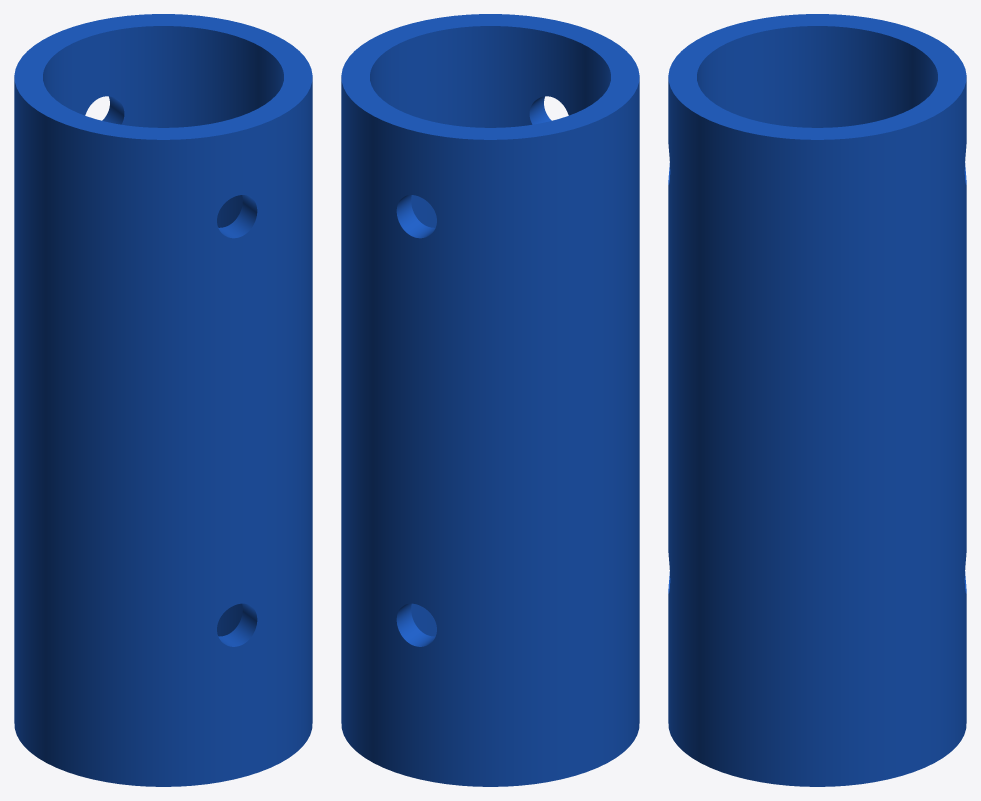
Rendered from 01_casquillo_cabeza.glb.
The picture shows the model from 3 angles, left to right: view 1: azimuth 30°, elevation 25°; view 2: azimuth 150°, elevation 25°; view 3: azimuth 270°, elevation 25°; orthographic projection.
Parts seen in each view (by area): view 1: 01_casquillo_cabeza; view 2: 01_casquillo_cabeza; view 3: 01_casquillo_cabeza.
Part boxes in pixels (x1,y1,x2,y2): 01_casquillo_cabeza: (14,14,312,786); 01_casquillo_cabeza: (341,14,639,786); 01_casquillo_cabeza: (668,14,966,786).
Bounding box in the file's own units: 63.46 × 152 × 63.5.
